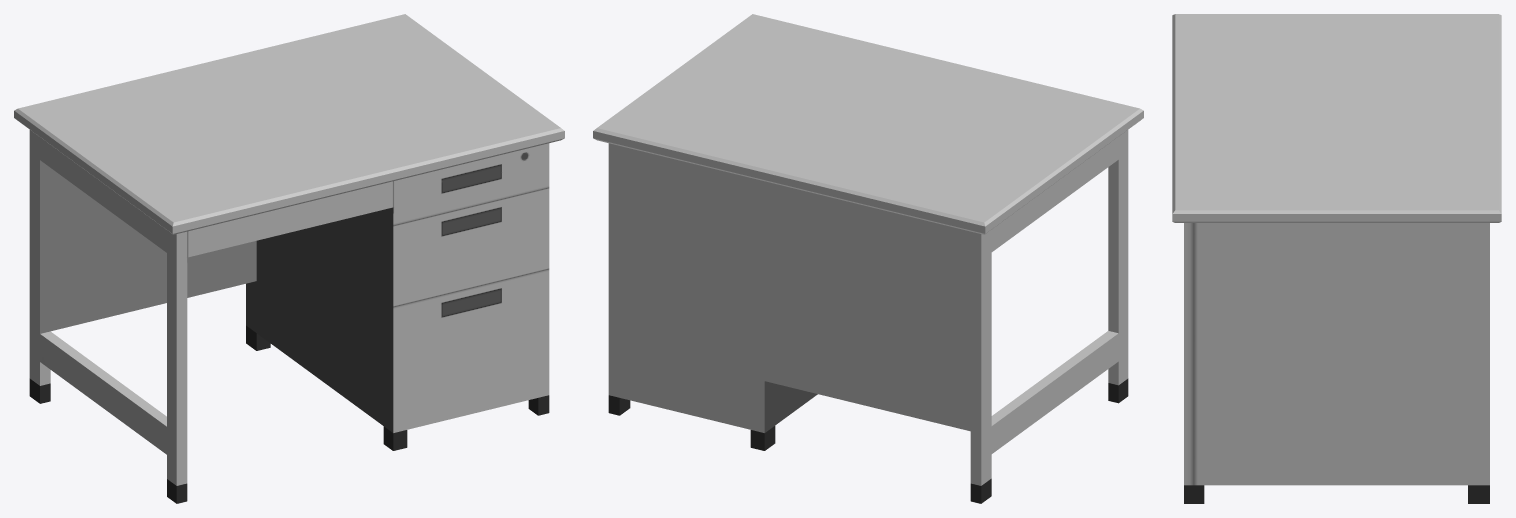
Rendered from Table_Model.fbx.
The picture shows the model from 3 angles, left to right: view 1: azimuth 30°, elevation 25°; view 2: azimuth 150°, elevation 25°; view 3: azimuth 270°, elevation 25°; orthographic projection. The views are drawn at different scales.
Parts seen in each view (by area): view 1: Table; view 2: Table; view 3: Table.
Part boxes in pixels (x1=…): Table: x1=14, y1=14, x2=564, y2=503; Table: x1=593, y1=14, x2=1143, y2=503; Table: x1=1172, y1=14, x2=1501, y2=503.
Bounding box in the file's own units: 100 × 69.77 × 70.
Materials: 1 (1 with a texture image).
